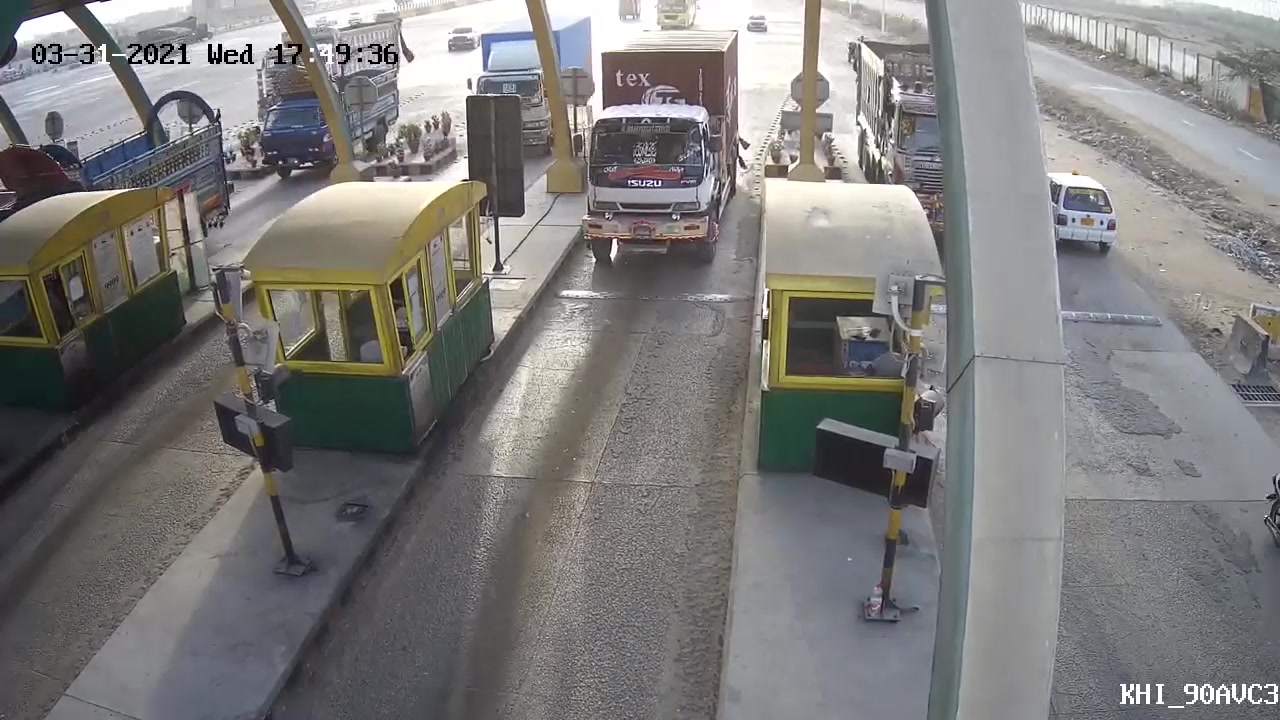F5: (569, 43, 743, 282)
